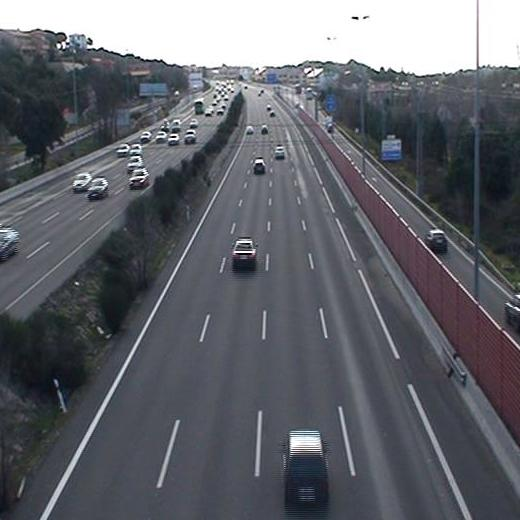car: (276, 426, 337, 514), (229, 235, 259, 273), (249, 156, 269, 176), (273, 143, 289, 161)
